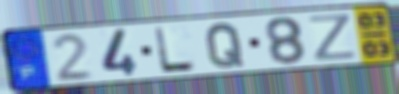2: (49, 32, 95, 83)
4: (99, 26, 144, 79)
8: (263, 15, 307, 67)
L: (152, 25, 200, 74)
Q: (203, 21, 246, 70)
Z: (306, 12, 359, 63)
